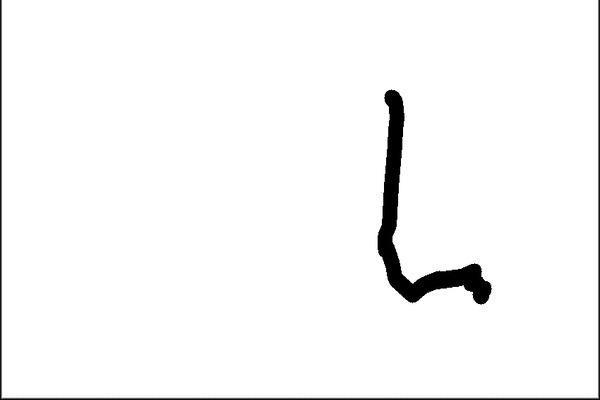L: (370, 83, 497, 311)
